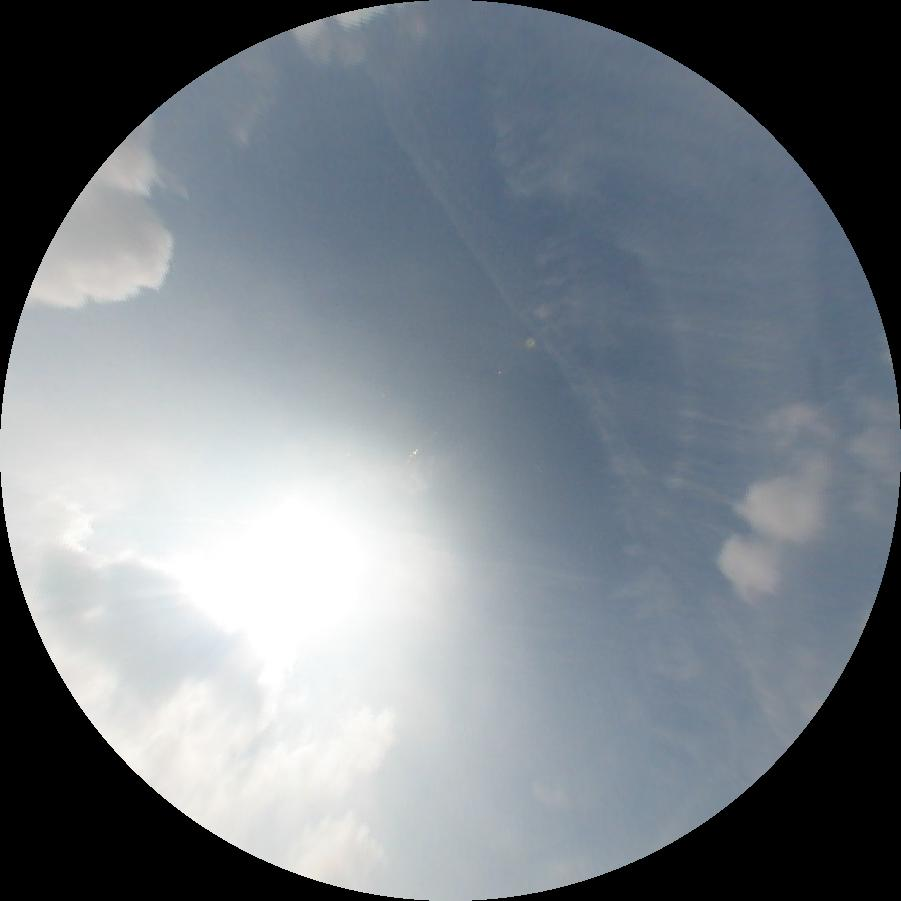contrail veryold: (372, 46, 810, 746)
sun: (184, 500, 362, 670)
